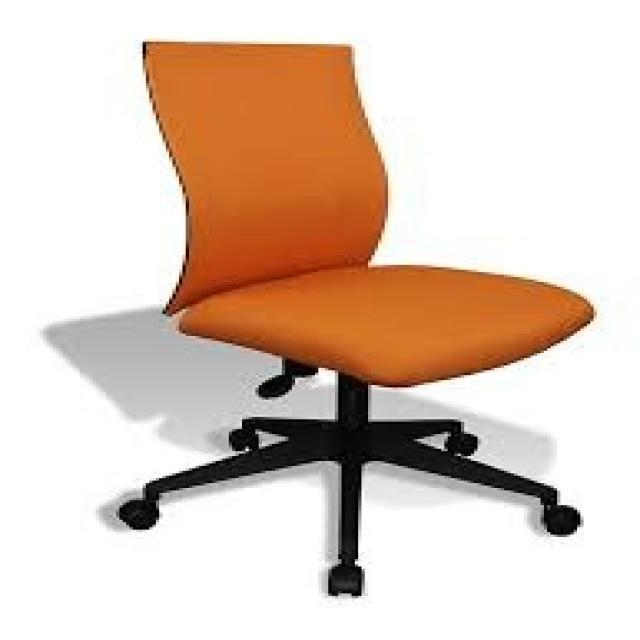chair: (106, 37, 594, 601)
